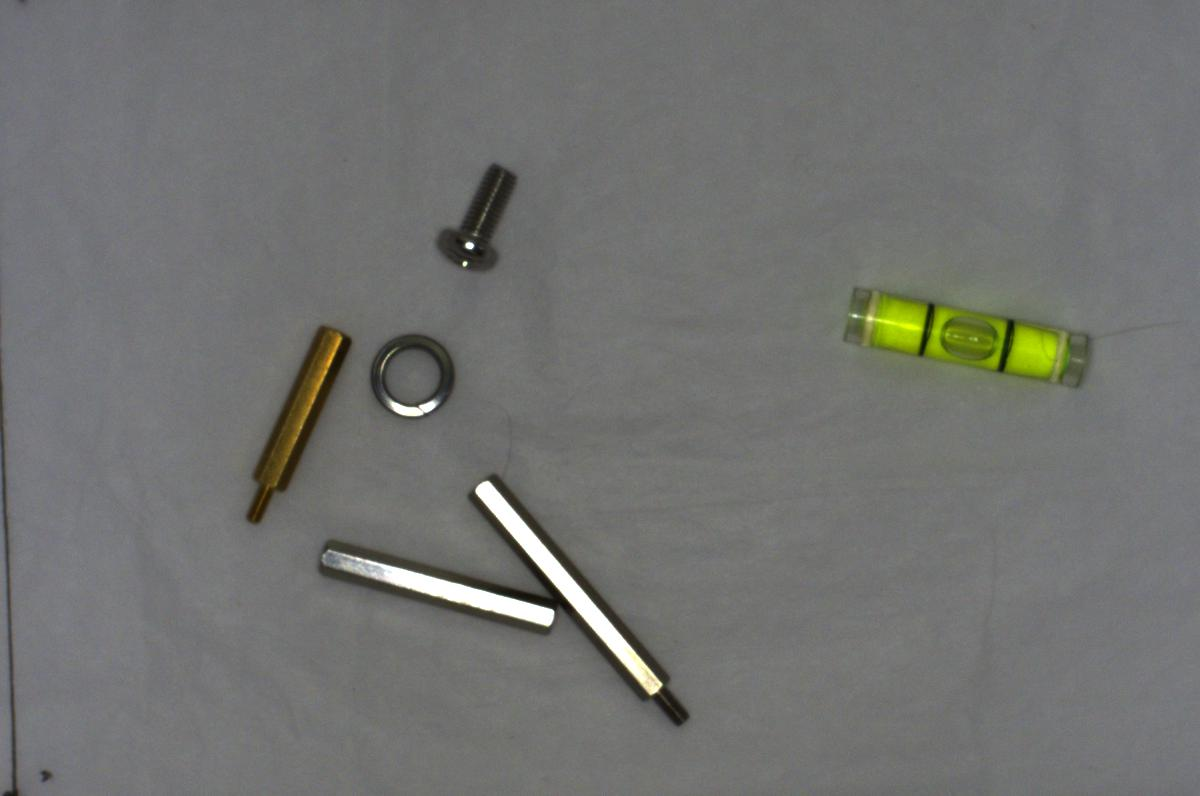Double hexagonal column: (310, 535, 570, 646)
Hexagon pillar: (237, 315, 352, 521)
Hexagonal steel column: (464, 469, 697, 733)
Horizontal bubble: (835, 276, 1095, 389)
Round head screw: (422, 158, 520, 279)
Spring washer: (367, 328, 457, 420)
